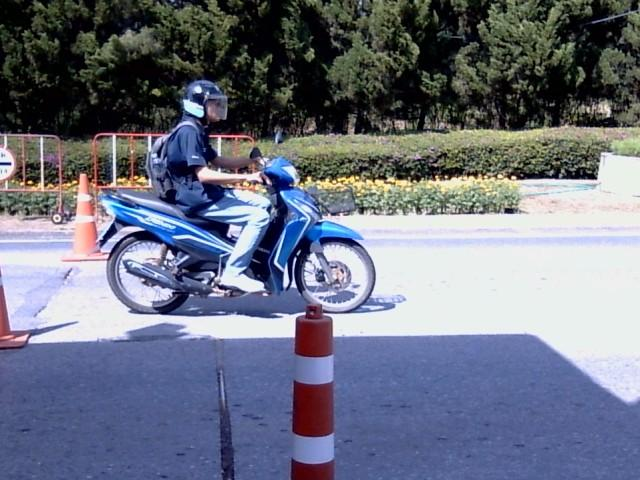helmet: (182, 78, 228, 124)
motor: (248, 158, 374, 312), (97, 190, 245, 312)
person: (166, 79, 269, 291)
